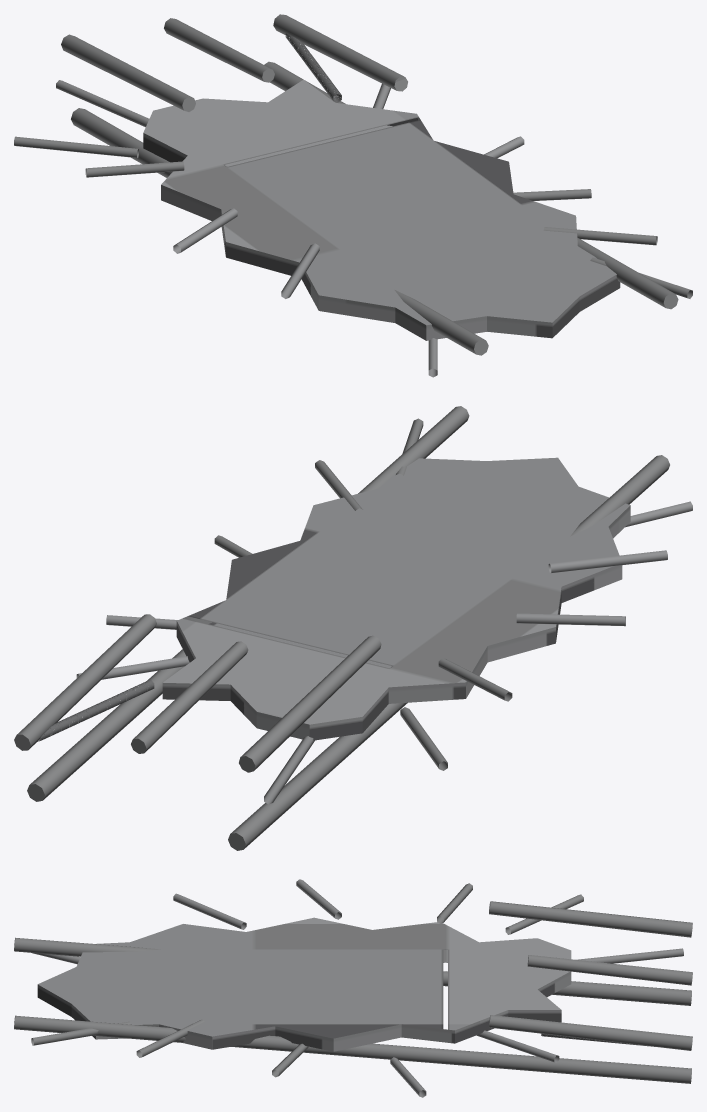
3 renders of one model, top to bottom at view 1: azimuth 30°, elevation 25°; view 2: azimuth 150°, elevation 25°; view 3: azimuth 270°, elevation 25°, orthographic. The views are drawn at different scales.
Size of the model in its own units: 0.8412 by 0.2274 by 1.4.
